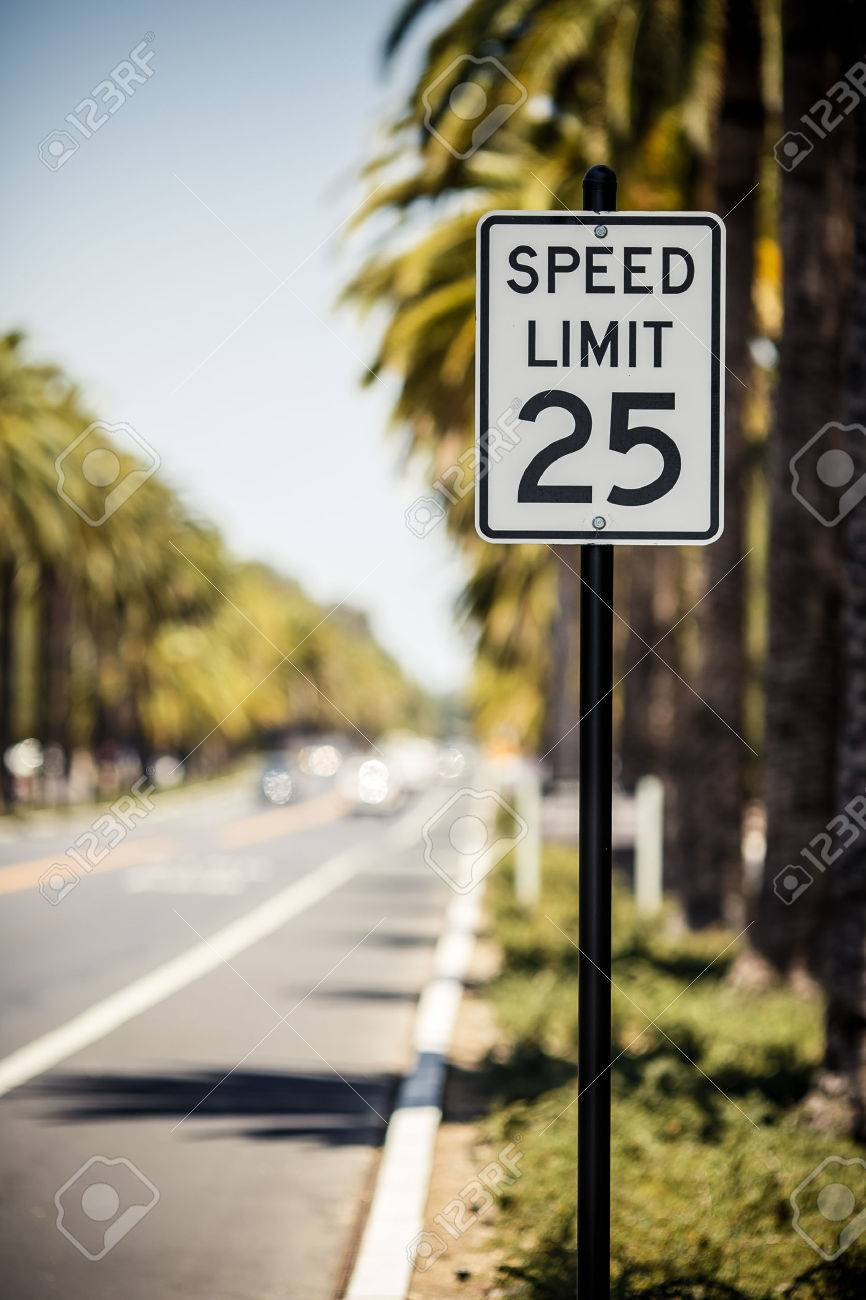speed limit: (461, 188, 743, 577)
